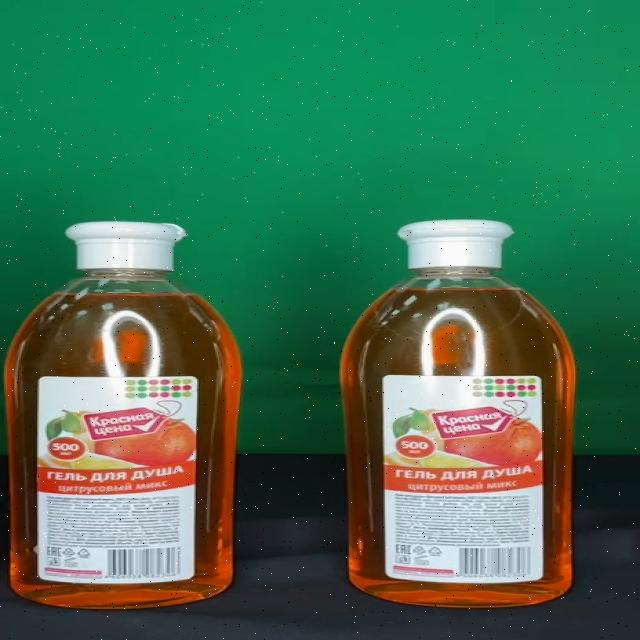Bottle: (6, 222, 242, 609), (340, 220, 576, 606)
Cap: (64, 221, 190, 270), (398, 220, 516, 268)
